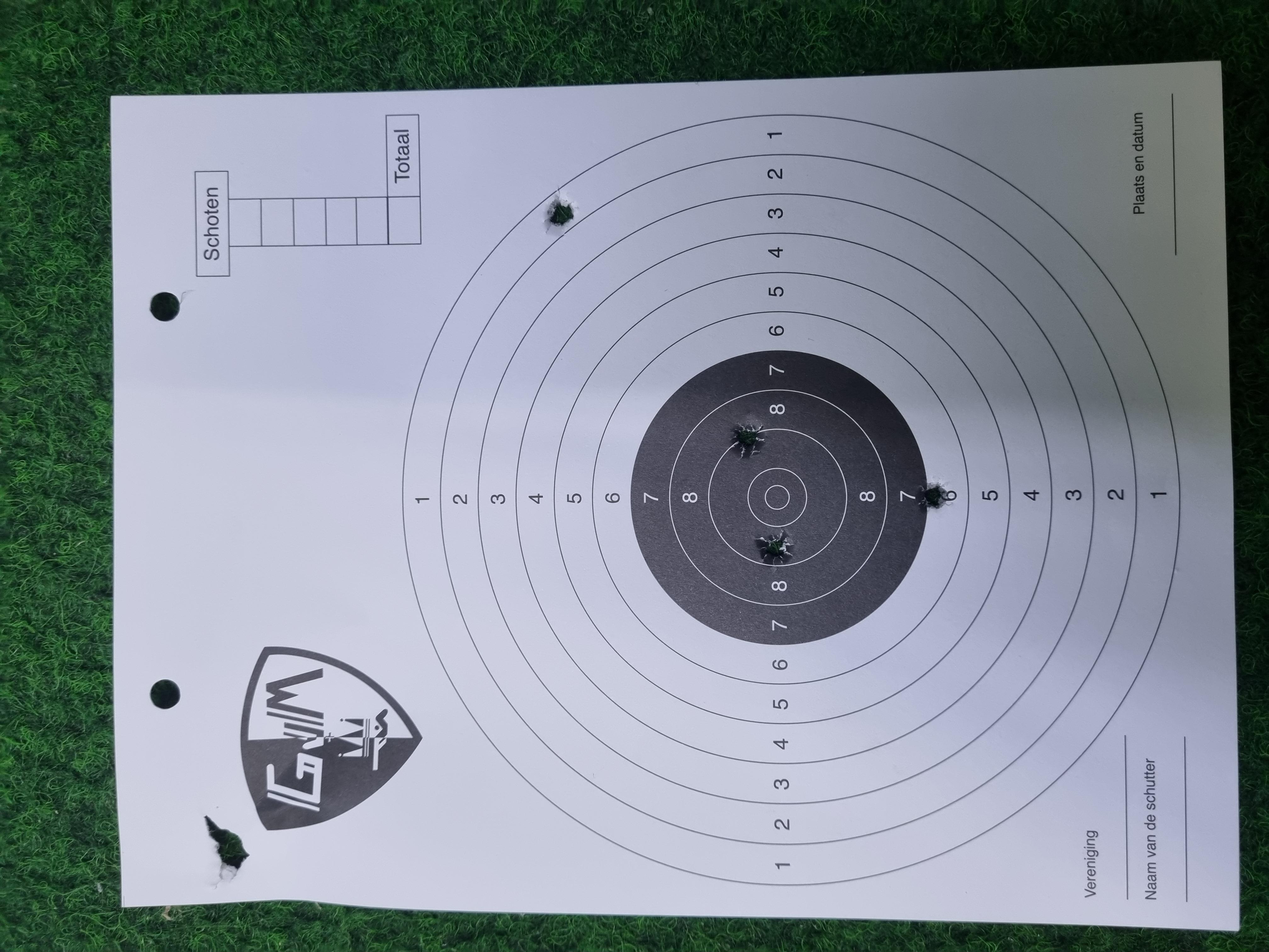hole: (954, 406, 1020, 435), (510, 565, 563, 595), (654, 547, 705, 574), (587, 689, 626, 715)
